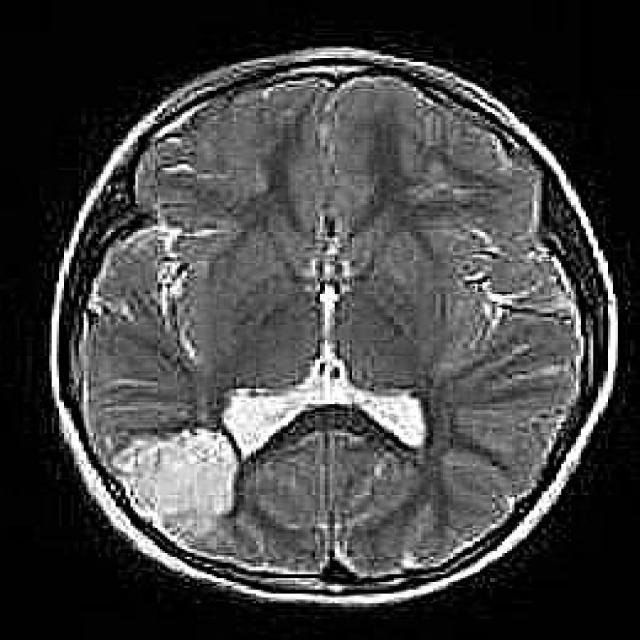Tumor-Cell: (116, 416, 250, 528)
